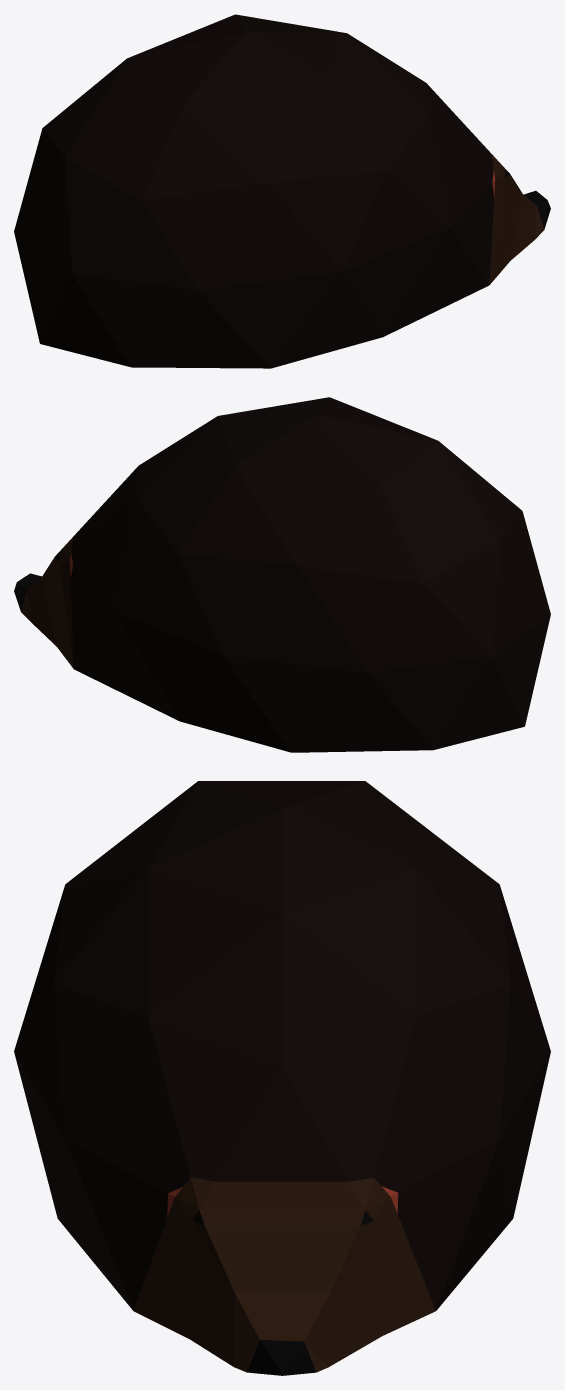
The model's file is player.obj.
3 views of the same model, one above another, from view 1: azimuth 30°, elevation 25°; view 2: azimuth 150°, elevation 25°; view 3: azimuth 270°, elevation 25° (orthographic). The views are drawn at different scales.
Parts seen in each view (by area): view 1: Icosphere_Icosphere.001; view 2: Icosphere_Icosphere.001; view 3: Icosphere_Icosphere.001.
Boxes of the visible parts, x1=… form: Icosphere_Icosphere.001: x1=14, y1=14, x2=550, y2=368; Icosphere_Icosphere.001: x1=14, y1=397, x2=550, y2=752; Icosphere_Icosphere.001: x1=14, y1=781, x2=550, y2=1375.
Bounding box in the file's own units: 3.12 × 1.53 × 2.
